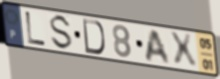8: (111, 24, 133, 59)
A: (144, 29, 172, 66)
D: (82, 18, 107, 57)
L: (25, 10, 48, 48)
S: (50, 14, 75, 52)
X: (167, 31, 199, 70)
